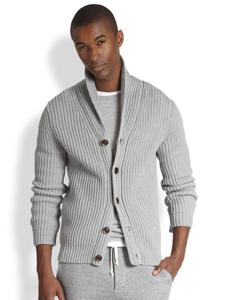S_cardigan sweater: (27, 65, 201, 273)
